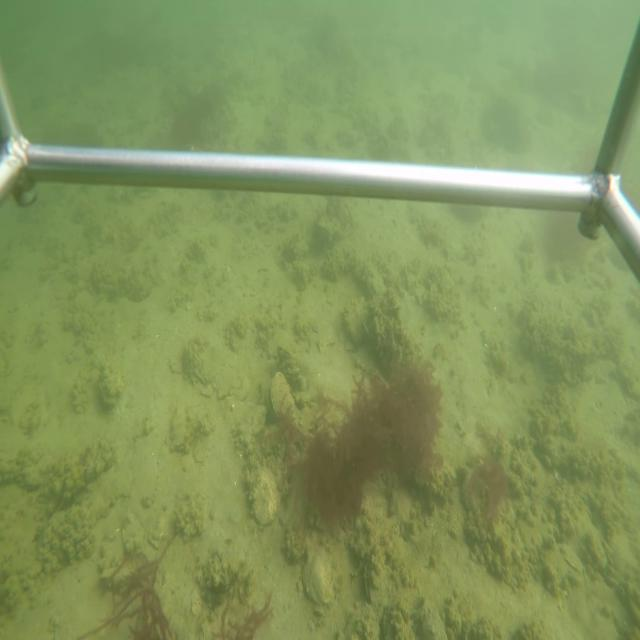Oyster-Indeterminate: (301, 538, 337, 611), (247, 463, 284, 533)
Oyster-Open: (264, 372, 298, 420)
